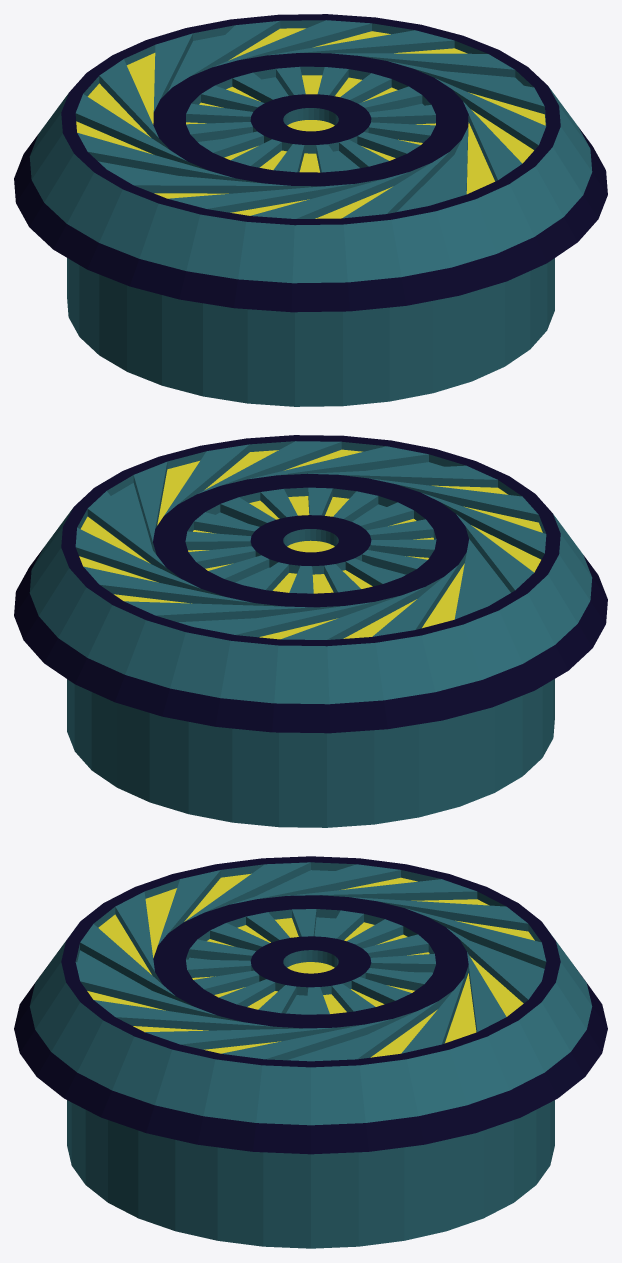
File: NodeB.fbx
3 views of the same model, one above another, from view 1: azimuth 30°, elevation 25°; view 2: azimuth 150°, elevation 25°; view 3: azimuth 270°, elevation 25° (orthographic).
Visible parts, largest first — view 1: Cylinder; view 2: Cylinder; view 3: Cylinder.
Boxes of the visible parts, left/top/right/bottom form: Cylinder: left=14, top=14, right=607, bottom=406; Cylinder: left=14, top=435, right=607, bottom=827; Cylinder: left=14, top=856, right=607, bottom=1248.
Bounding box in the file's own units: 238 × 81.18 × 238.
